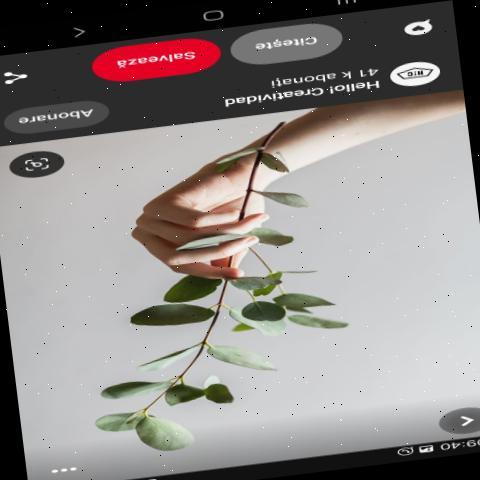Hands: (100, 160, 266, 307)
